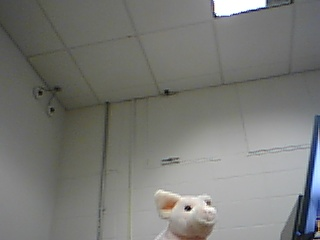piggy: (146, 188, 220, 240)
